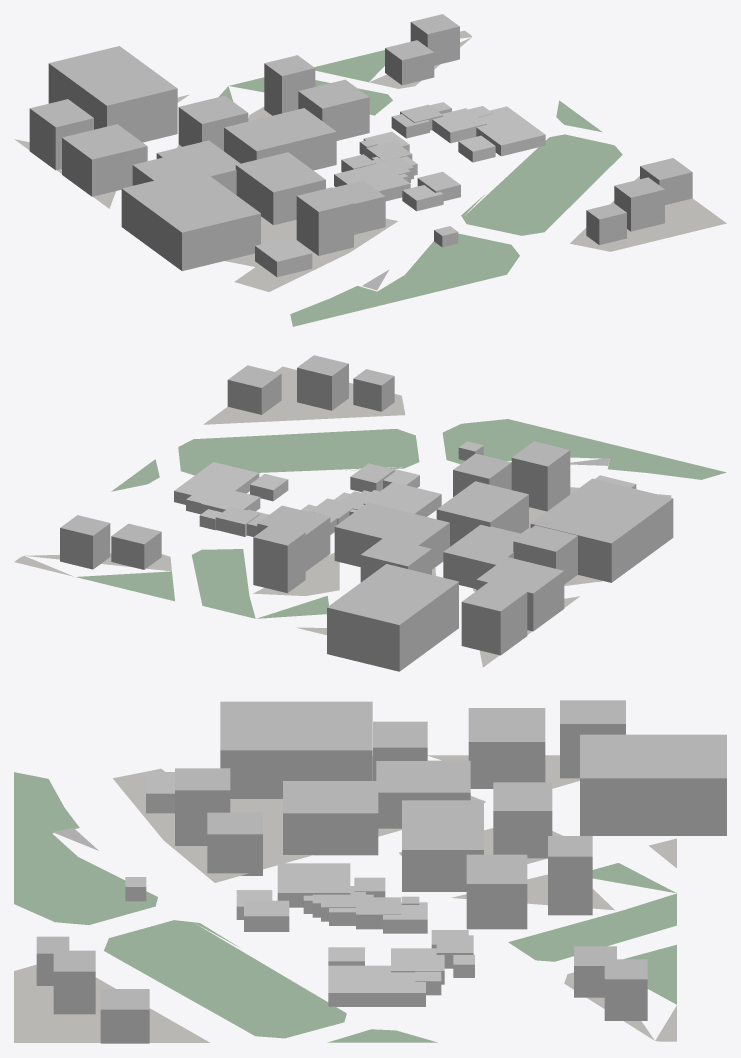
File: 135_87_mid.glb
The picture shows the model from 3 angles, top to bottom: view 1: azimuth 30°, elevation 25°; view 2: azimuth 150°, elevation 25°; view 3: azimuth 270°, elevation 25°; orthographic projection. The views are drawn at different scales.
Size of the model in its own units: 510 by 53.73 by 538.
